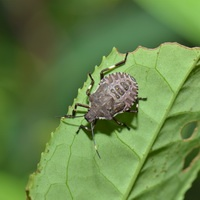insect: (62, 52, 146, 157)
